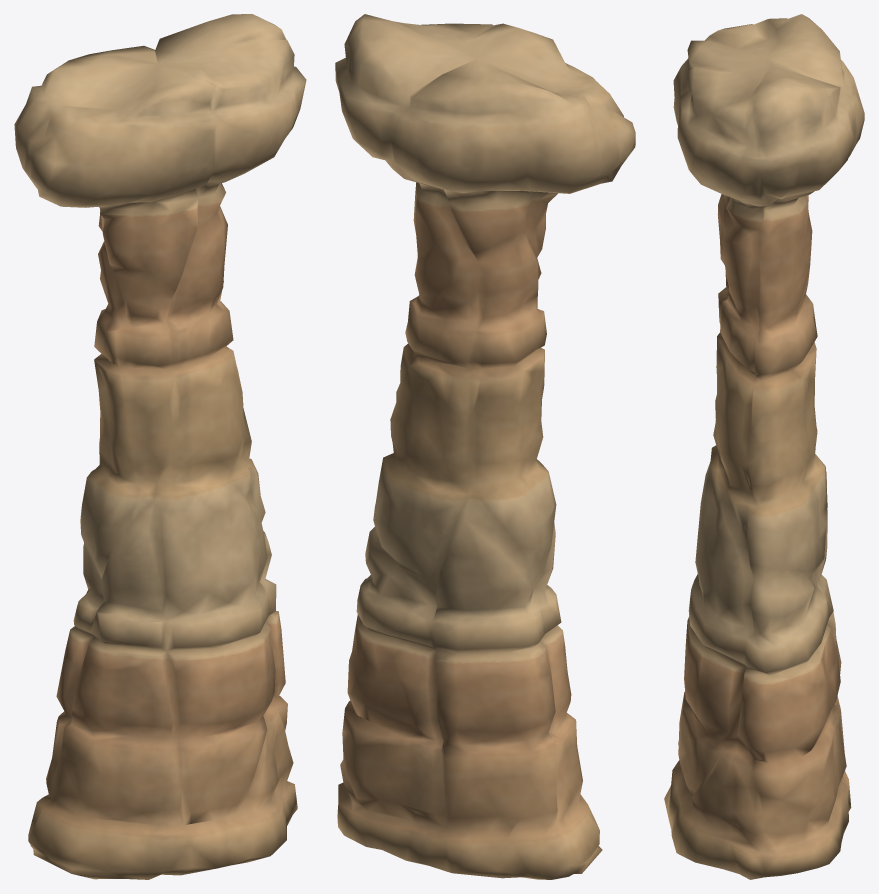
Rendered from fin_spire.glb.
3 views of the same model, side by side, from view 1: azimuth 30°, elevation 25°; view 2: azimuth 150°, elevation 25°; view 3: azimuth 270°, elevation 25° (orthographic). The views are drawn at different scales.
Parts seen in each view (by area): view 1: fin_spire_game; view 2: fin_spire_game; view 3: fin_spire_game.
Part boxes in pixels (x1,y1,x2,y2): fin_spire_game: [14, 14, 306, 879]; fin_spire_game: [335, 14, 635, 879]; fin_spire_game: [664, 14, 864, 879].
Size of the model in its own units: 8.2 by 22.56 by 5.2.
1 material, 1 textured.
